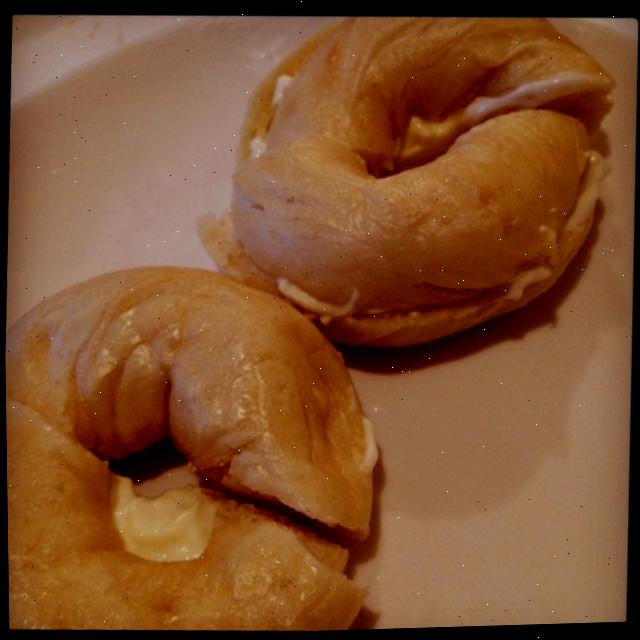面包点心: (0, 0, 630, 640)
